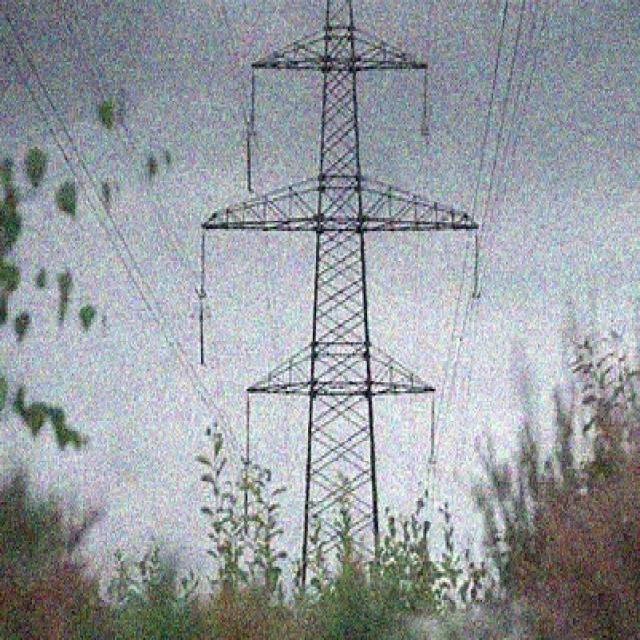utility poles: (207, 391, 473, 638)
